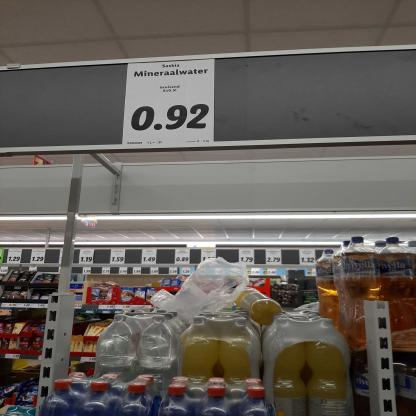prtg: (123, 59, 216, 146)
